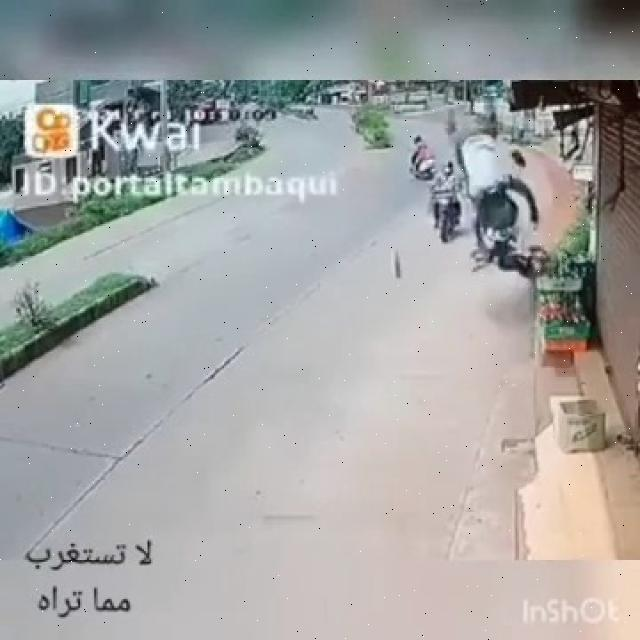accident: (458, 99, 570, 353), (459, 234, 561, 286)
